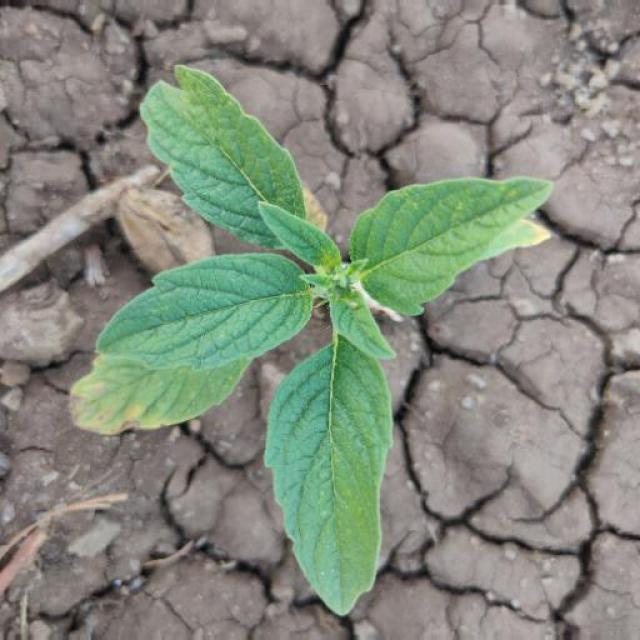crop: (70, 87, 550, 640)
